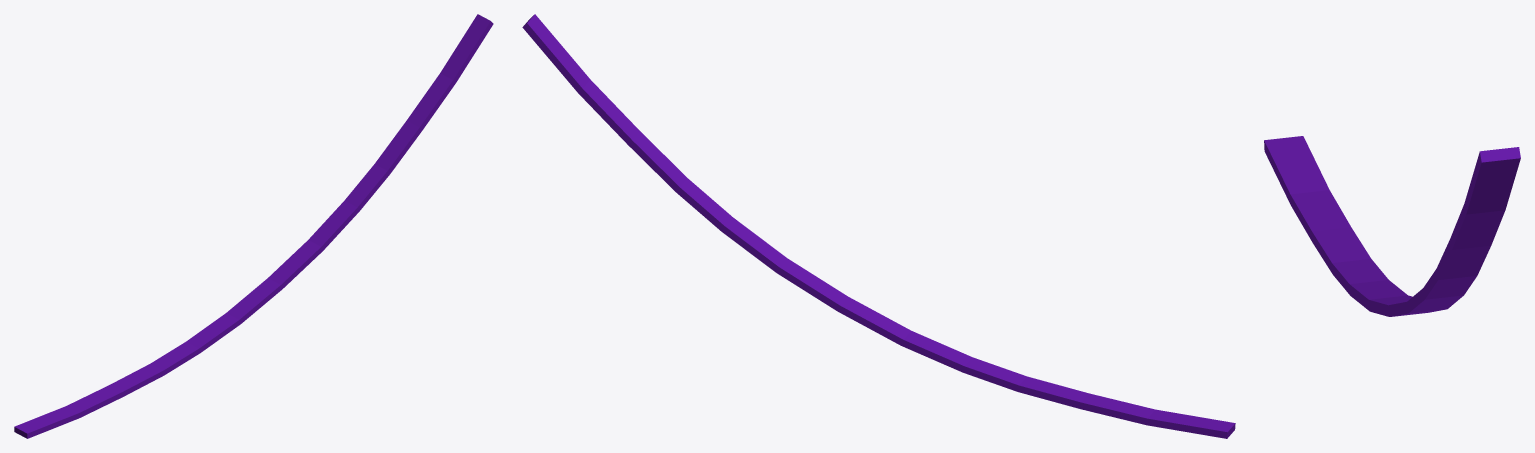
The model's file is Tape_14_chunks.fbx.
3 renders of one model, left to right at view 1: azimuth 30°, elevation 25°; view 2: azimuth 150°, elevation 25°; view 3: azimuth 270°, elevation 25°, orthographic. The views are drawn at different scales.
Parts seen in each view (by area): view 1: Tape_14_2, Tape_14_0, Tape_14_1, Tape_14_3; view 2: Tape_14_2, Tape_14_3, Tape_14_1, Tape_14_0; view 3: Tape_14_2, Tape_14_0, Tape_14_3, Tape_14_1.
Boxes of the visible parts, x1=… form: Tape_14_2: x1=290, y1=14, x2=493, y2=264; Tape_14_0: x1=18, y1=326, x2=230, y2=438; Tape_14_1: x1=212, y1=257, x2=308, y2=337; Tape_14_3: x1=14, y1=320, x2=216, y2=433; Tape_14_2: x1=522, y1=14, x2=814, y2=286; Tape_14_3: x1=919, y1=346, x2=1230, y2=438; Tape_14_1: x1=798, y1=276, x2=937, y2=358; Tape_14_0: x1=924, y1=336, x2=1235, y2=435; Tape_14_2: x1=1398, y1=147, x2=1520, y2=314; Tape_14_0: x1=1264, y1=137, x2=1379, y2=303; Tape_14_3: x1=1290, y1=136, x2=1402, y2=291; Tape_14_1: x1=1361, y1=289, x2=1438, y2=316.
Bounding box in the file's own units: 728 × 336 × 155.
